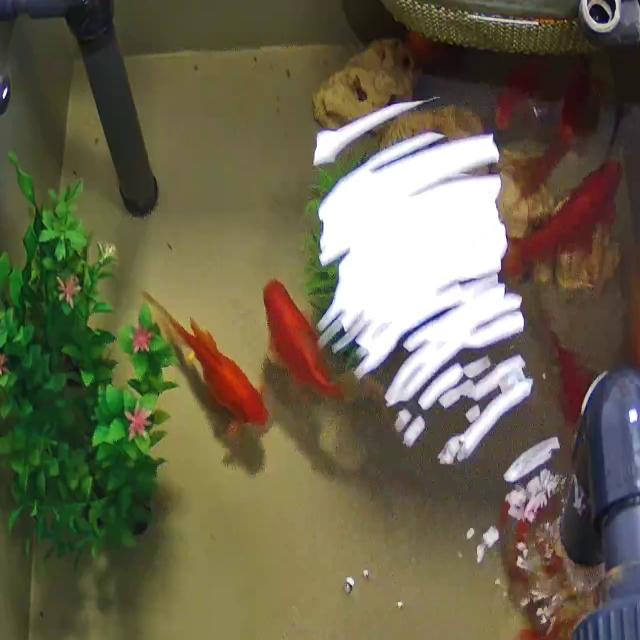fish: (131, 281, 278, 437), (505, 140, 638, 289), (249, 270, 352, 412), (615, 268, 640, 386)
